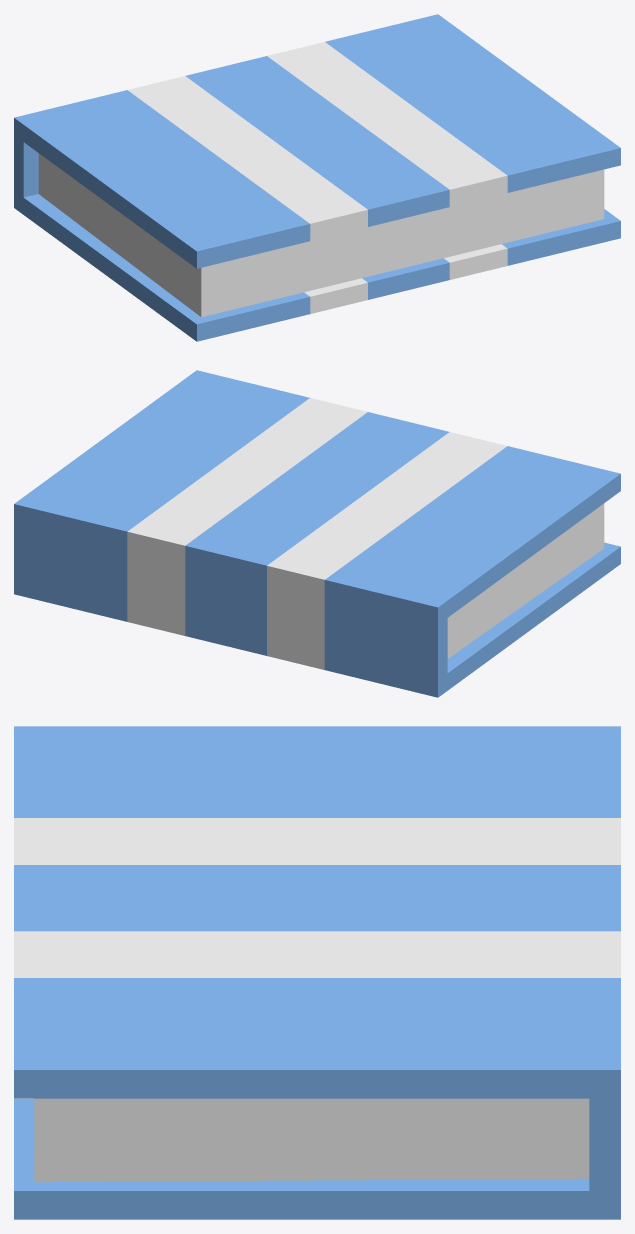
File: Book_13.fbx
The picture shows the model from 3 angles, top to bottom: view 1: azimuth 30°, elevation 25°; view 2: azimuth 150°, elevation 25°; view 3: azimuth 270°, elevation 25°; orthographic projection. The views are drawn at different scales.
Visible parts, largest first — view 1: Book_13; view 2: Book_13; view 3: Book_13.
Part boxes in pixels (<box>): Book_13: <box>14,14,620,341</box>; Book_13: <box>14,370,620,697</box>; Book_13: <box>14,726,620,1219</box>.
Size of the model in its own units: 0.2273 by 0.0462 by 0.1697.
